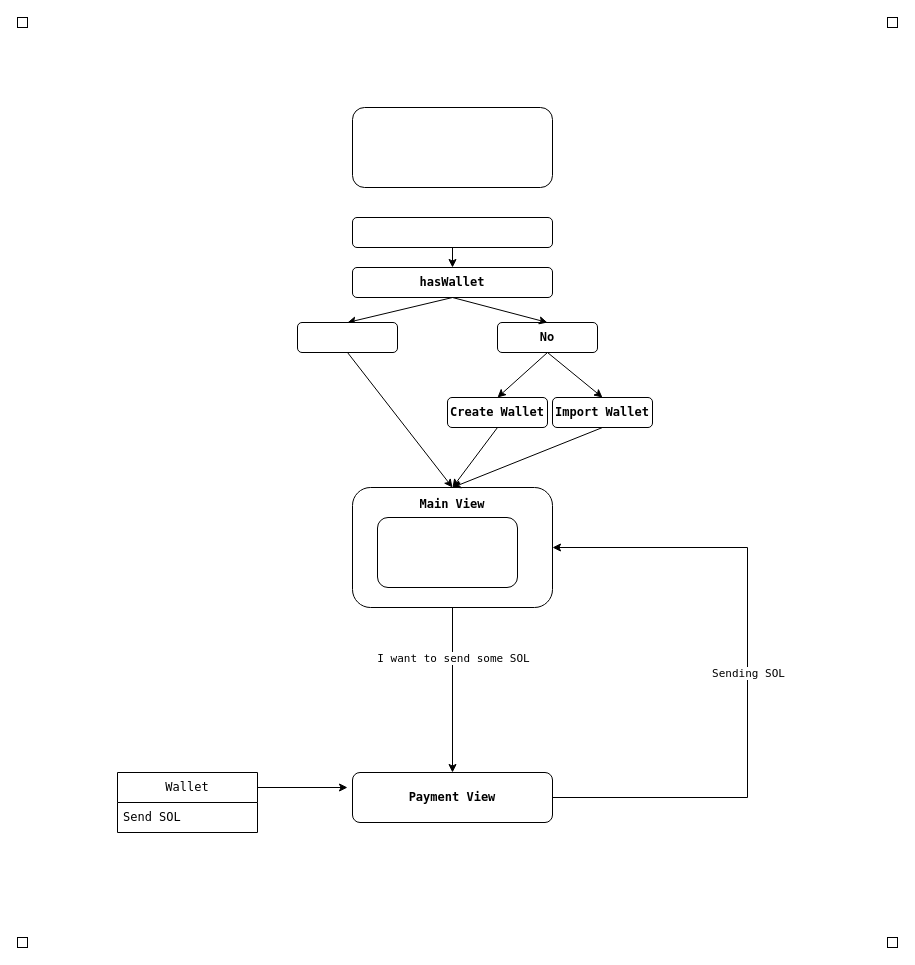
Some shapes in this 915 by 965 pixel diagram are drawn without their labels. The shapes that lost their labels are listed below. From the top down, each one's centre as x and y in pixels, then its label:
At (x=452, y=147): "Ideal iOS App Flow".
At (x=452, y=232): "App Launch".
At (x=347, y=337): "Yes".
At (x=447, y=552): "Balance View Past TXs View".
